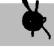not correct: (18, 0, 52, 40)
